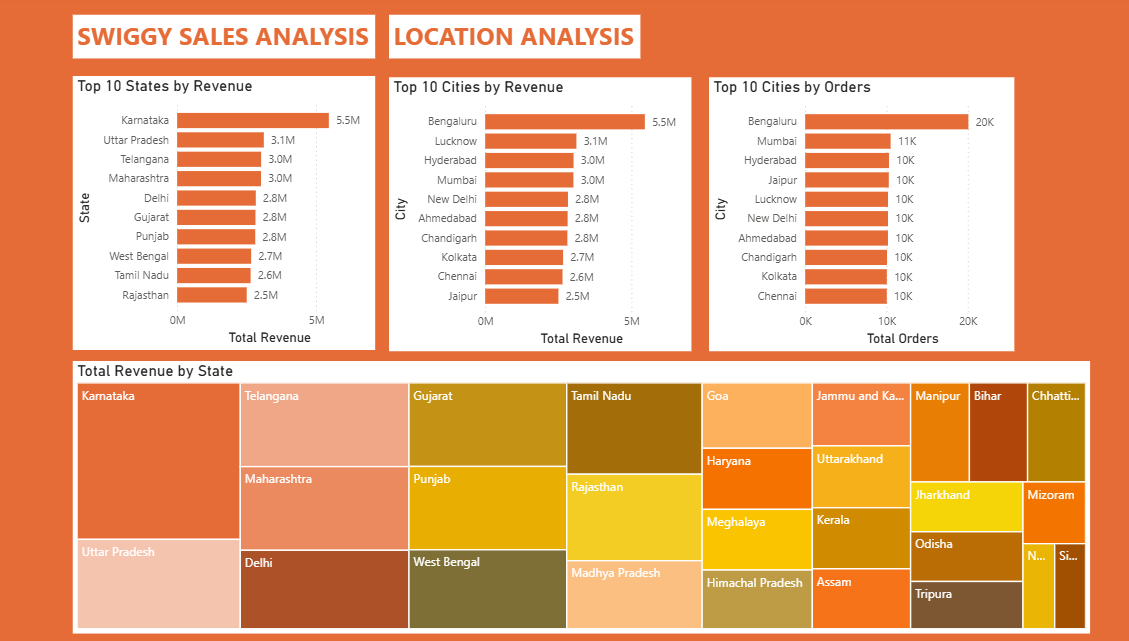

The dashboard page shown, as its layout file describes it:
{"tool":"powerbi","page":{"name":"Location Analysis","canvas":[1280,720],"ordinal":2},"visuals":[{"type":"textbox","box":[97.4,20.6,332.1,48],"z":0},{"type":"textbox","box":[444.6,20.6,275.8,48],"z":1},{"type":"clusteredBarChart","title":"Top 10 States by Revenue","fields":{"Category":["Swiggy.State"],"Y":["Swiggy.Total Revenue"]},"box":[97.4,87.8,332.1,300.5],"z":2},{"type":"clusteredBarChart","title":"Top 10 Cities by Revenue","fields":{"Category":["Swiggy.City"],"Y":["Swiggy.Total Revenue"]},"box":[444.6,89.2,332.1,300.5],"z":3},{"type":"treemap","fields":{"Group":["Swiggy.State"],"Values":["Swiggy.Total Revenue"]},"box":[97.4,400.7,1117,299.1],"z":4},{"type":"clusteredBarChart","title":"Top 10 Cities by Orders","fields":{"Y":["Swiggy.Total Orders"],"Category":["Swiggy.City"]},"box":[795.9,89.2,334.8,300.5],"z":5}]}

Visuals, with their boxes in screenshot pixels (x1, y1, x2, y2), scaled from the page's 1280x720 canvas onto the 1129x641 screenshot:
textbox: x1=86, y1=18, x2=379, y2=61
textbox: x1=392, y1=18, x2=635, y2=61
"Top 10 States by Revenue" clusteredBarChart: x1=86, y1=78, x2=379, y2=346
"Top 10 Cities by Revenue" clusteredBarChart: x1=392, y1=79, x2=685, y2=347
treemap - Swiggy.State x Swiggy.Total Revenue: x1=86, y1=357, x2=1071, y2=623
"Top 10 Cities by Orders" clusteredBarChart: x1=702, y1=79, x2=997, y2=347
